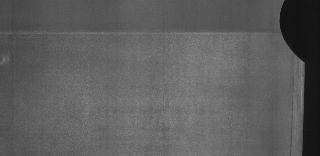welding line: (1, 29, 289, 40)
